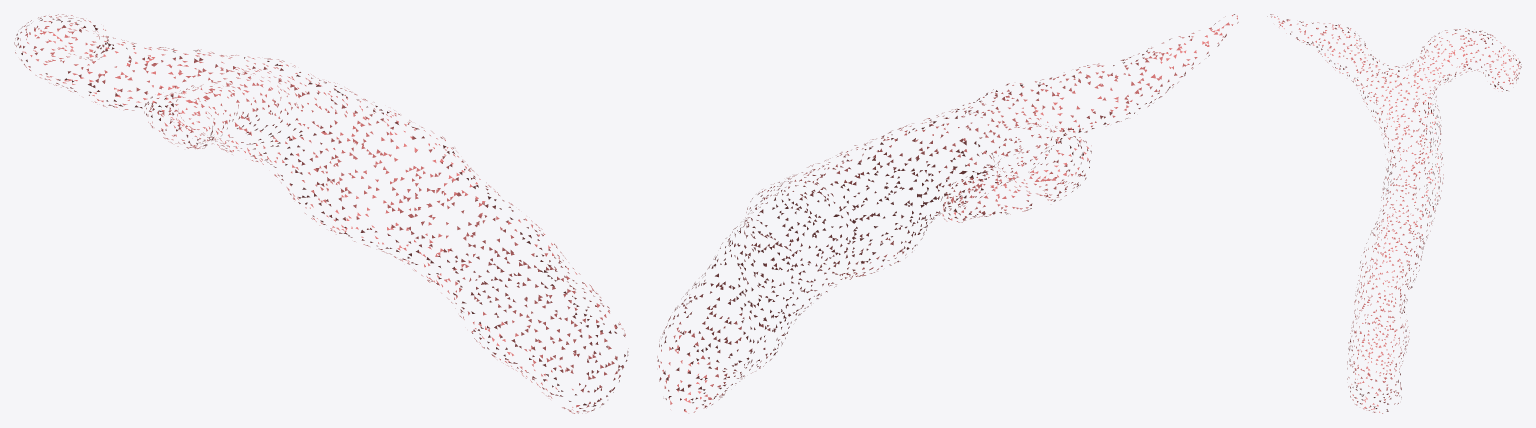
File: morph_000.glb
The picture shows the model from 3 angles, left to right: view 1: azimuth 30°, elevation 25°; view 2: azimuth 150°, elevation 25°; view 3: azimuth 270°, elevation 25°; orthographic projection. The views are drawn at different scales.
Size of the model in its own units: 95.28 by 81.19 by 70.29.
